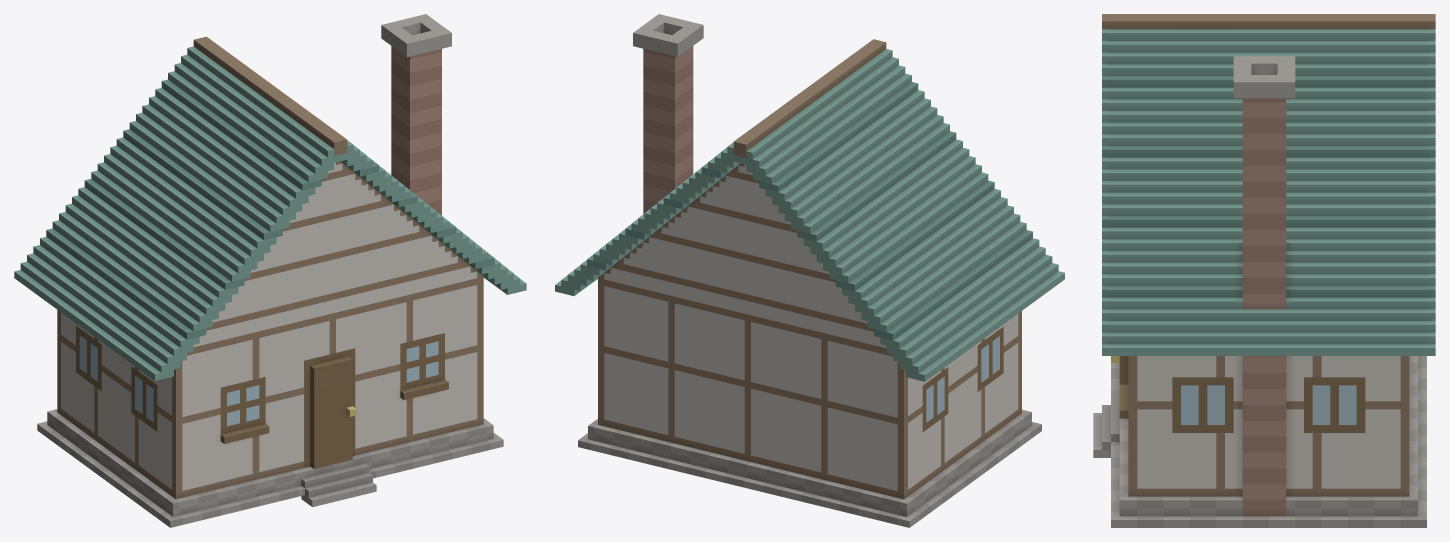
Rendered from maison_maison.glb.
The picture shows the model from 3 angles, left to right: view 1: azimuth 30°, elevation 25°; view 2: azimuth 150°, elevation 25°; view 3: azimuth 270°, elevation 25°; orthographic projection. The views are drawn at different scales.
Parts seen in each view (by area): view 1: geometry_0; view 2: geometry_0; view 3: geometry_0.
Part boxes in pixels (x1=…): geometry_0: x1=14, y1=14, x2=526, y2=527; geometry_0: x1=555, y1=14, x2=1064, y2=527; geometry_0: x1=1093, y1=14, x2=1435, y2=527.
Size of the model in its own units: 7.25 by 7.12 by 4.88.
